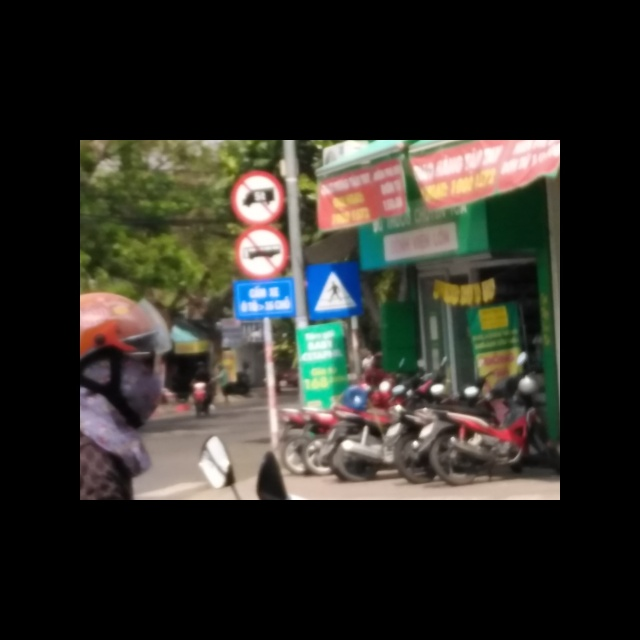Cấm xe tải: (230, 171, 287, 228)
Cấm xe xe khách: (235, 227, 288, 280)
Đường dành cho người đi bộ: (304, 259, 363, 317)
